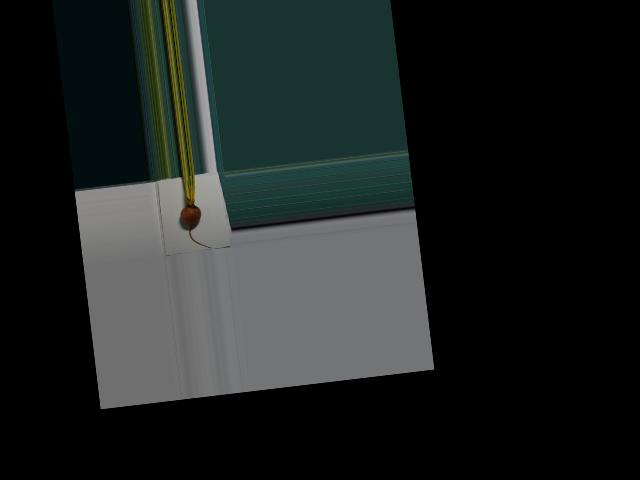beet: (176, 174, 210, 251)
